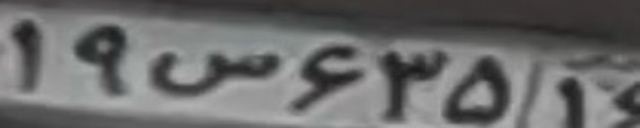1: (12, 16, 45, 91), (559, 75, 587, 126)
3: (373, 48, 441, 117)
5: (448, 53, 508, 121)
6: (289, 42, 363, 114), (605, 78, 638, 127)
9: (73, 22, 131, 95)
sin: (150, 49, 282, 99)
